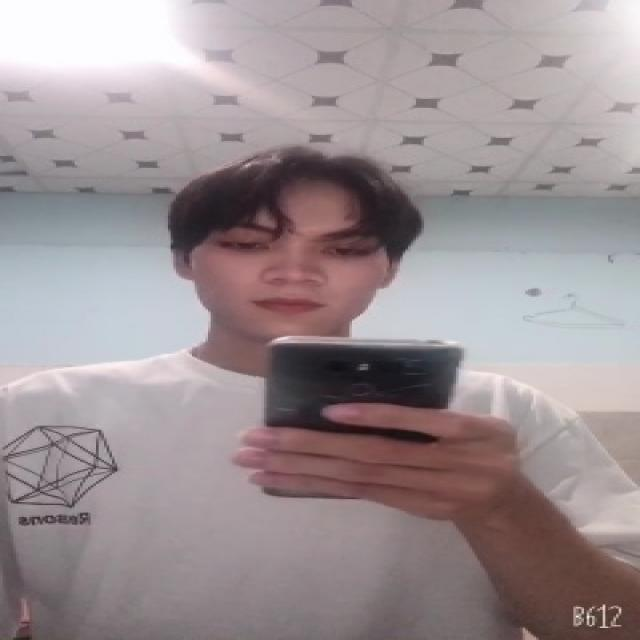Phone: (260, 335, 468, 435)
